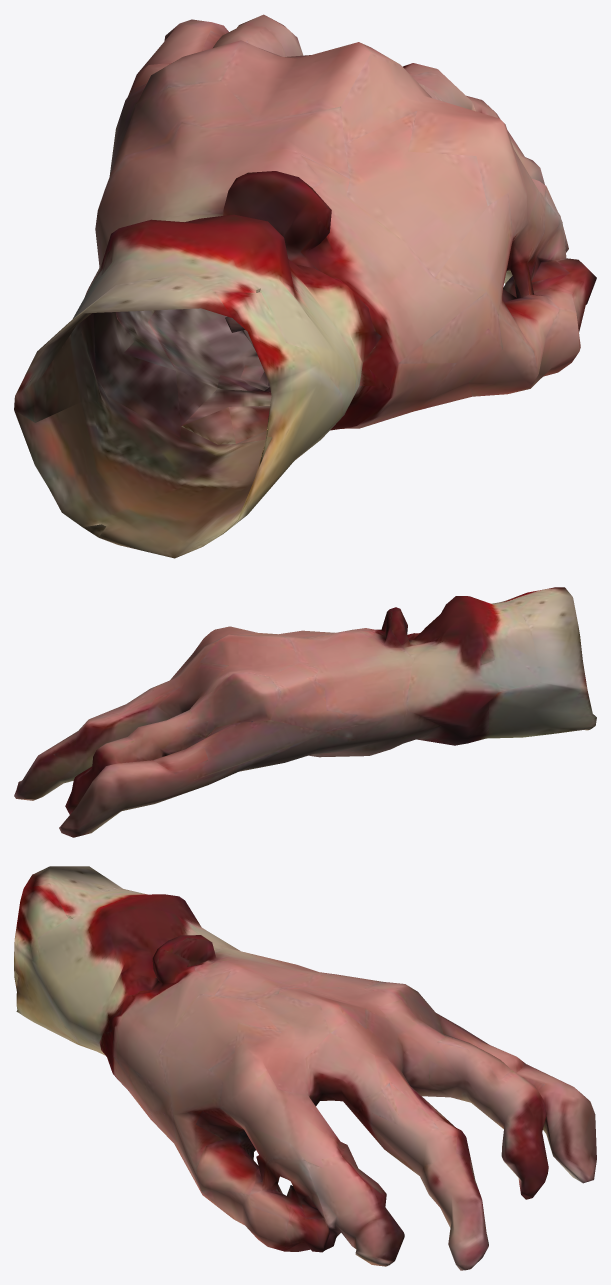
File: hand.glb
The picture shows the model from 3 angles, top to bottom: view 1: azimuth 30°, elevation 25°; view 2: azimuth 150°, elevation 25°; view 3: azimuth 270°, elevation 25°; orthographic projection. The views are drawn at different scales.
Parts seen in each view (by area): view 1: Mesh_0; view 2: Mesh_0; view 3: Mesh_0.
Part boxes in pixels (<box>): Mesh_0: <box>14,14,596,558</box>; Mesh_0: <box>14,587,596,837</box>; Mesh_0: <box>14,866,596,1270</box>.
Size of the model in its own units: 1.97 by 0.8106 by 2.
Materials: 1 (1 with a texture image).
